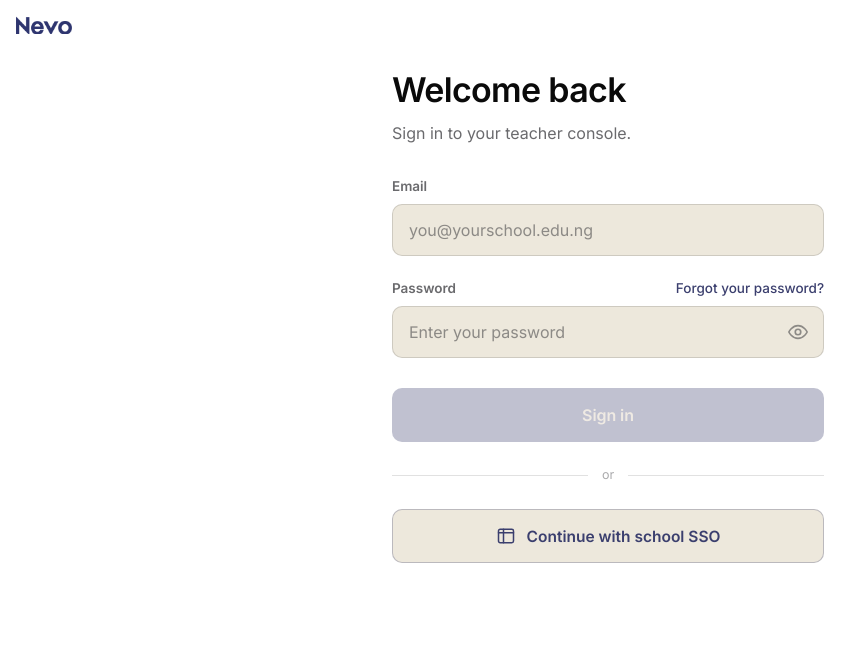
Scenario: what a failed sign-in says › still says the ordinary thing for an ordinary wrong password
Type "a.adeyemi@example.com" into the field labelled "Email" at (608, 230), box top-left (392, 204), bottom-right (824, 256)
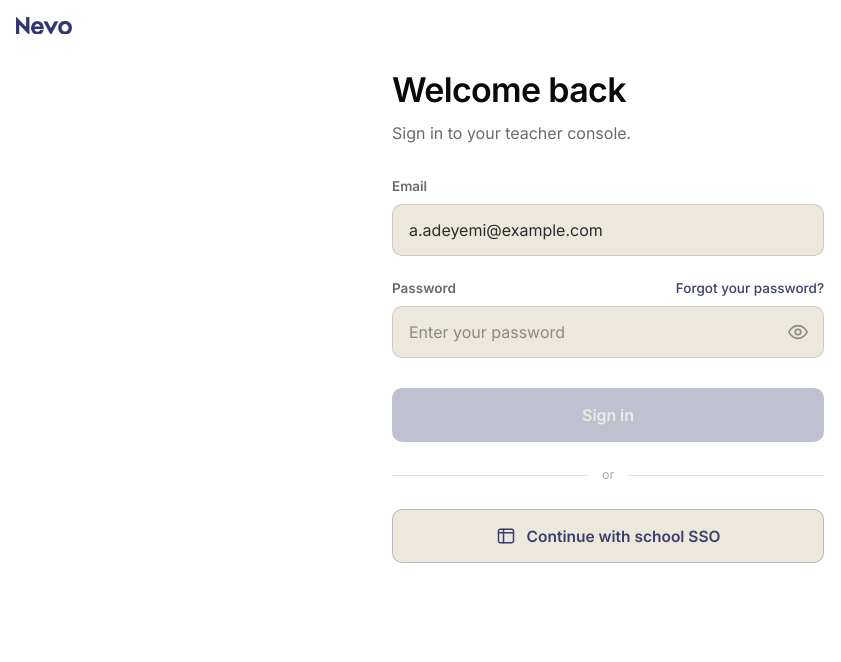
Type "a-password" into the password field labelled "Password" at (594, 332), box top-left (409, 307), bottom-right (779, 357)
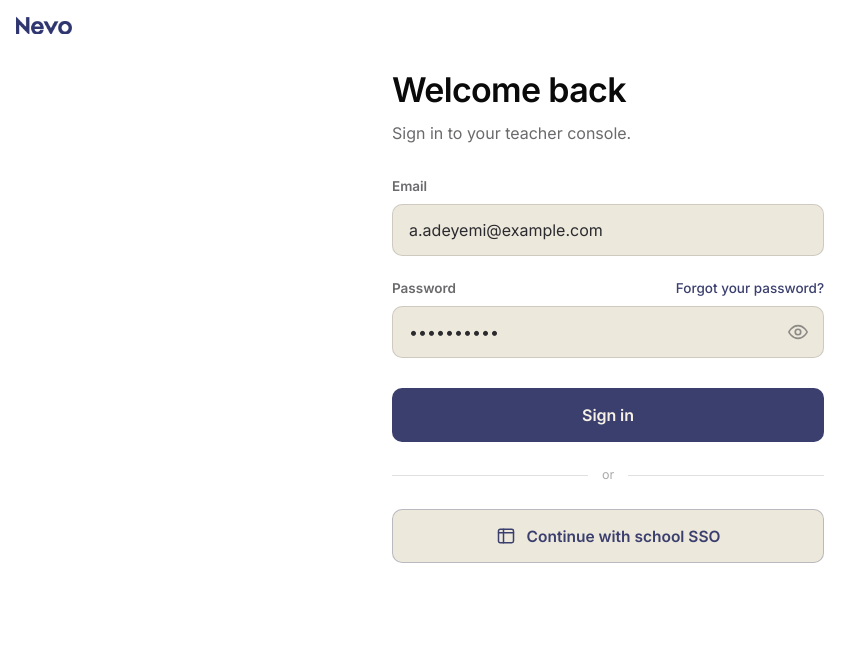
Click the button "Sign in" at (608, 415), box top-left (392, 388), bottom-right (824, 442)
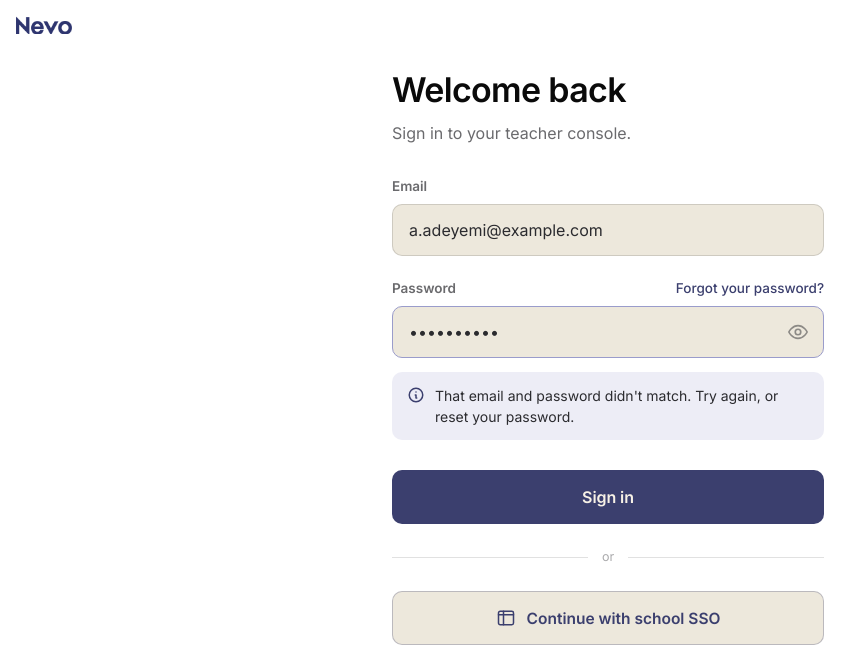
Now the text "email and password" is shown, box top-left (435, 387), bottom-right (778, 425)
